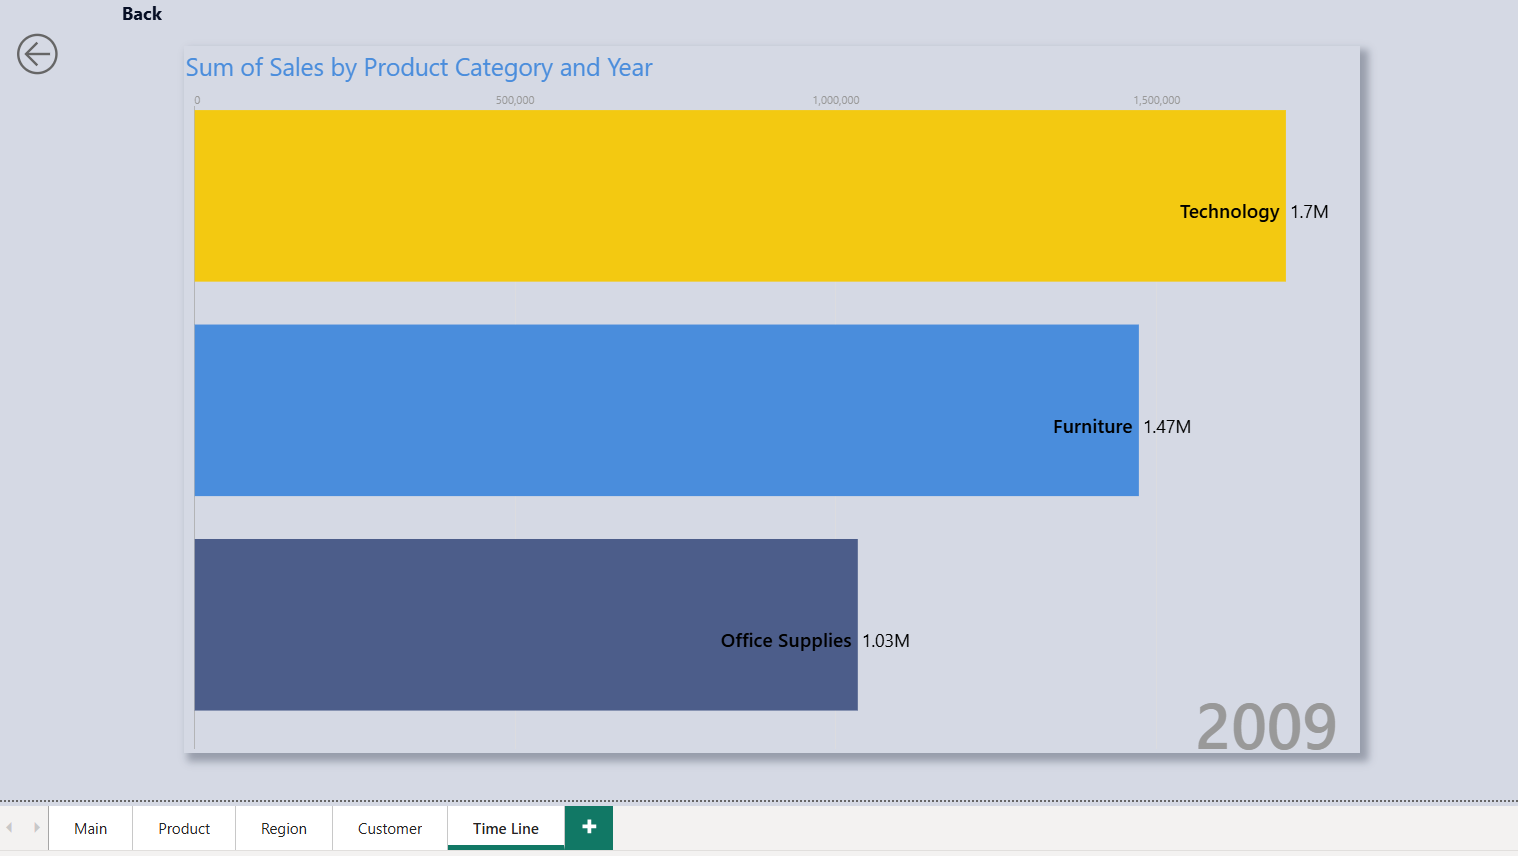

The dashboard page shown, as its layout file describes it:
{"tool":"powerbi","page":{"name":"time line","canvas":[1900,1000],"ordinal":4},"visuals":[{"type":"actionButton","box":[16,0,188,100],"z":0},{"type":"wishyoulizationbarchartrace","fields":{"value":["Sum(Final Data.Sales)"],"year":["Final Data.Order Date.Variation.Date Hierarchy.Year"],"name":["Final Data.Product Category"]},"box":[232,58,1470,884],"z":1000}]}

Visuals, with their boxes on the page's 1900x1000 design canvas (x1, y1, x2, y2). These are canvas units, not pixel positions in the 1518x856 screenshot, which may show the page scaled, cropped or inside an application window:
actionButton: BBox(16, 0, 204, 100)
wishyoulizationbarchartrace - Sum(Final Data.Sales) x Final Data.Order Date.Variation.Date Hierarchy.Year: BBox(232, 58, 1702, 942)
